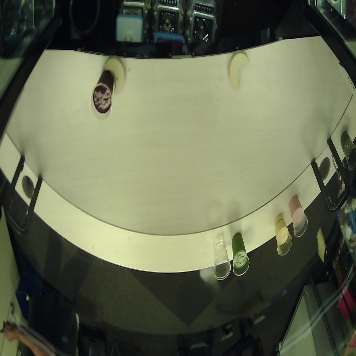empty_cup: (212, 234, 231, 280)
full_cup: (92, 70, 116, 119), (230, 232, 250, 275), (272, 212, 292, 255), (288, 194, 308, 237), (339, 131, 356, 167)
puck: (103, 56, 126, 94), (228, 50, 249, 90)
